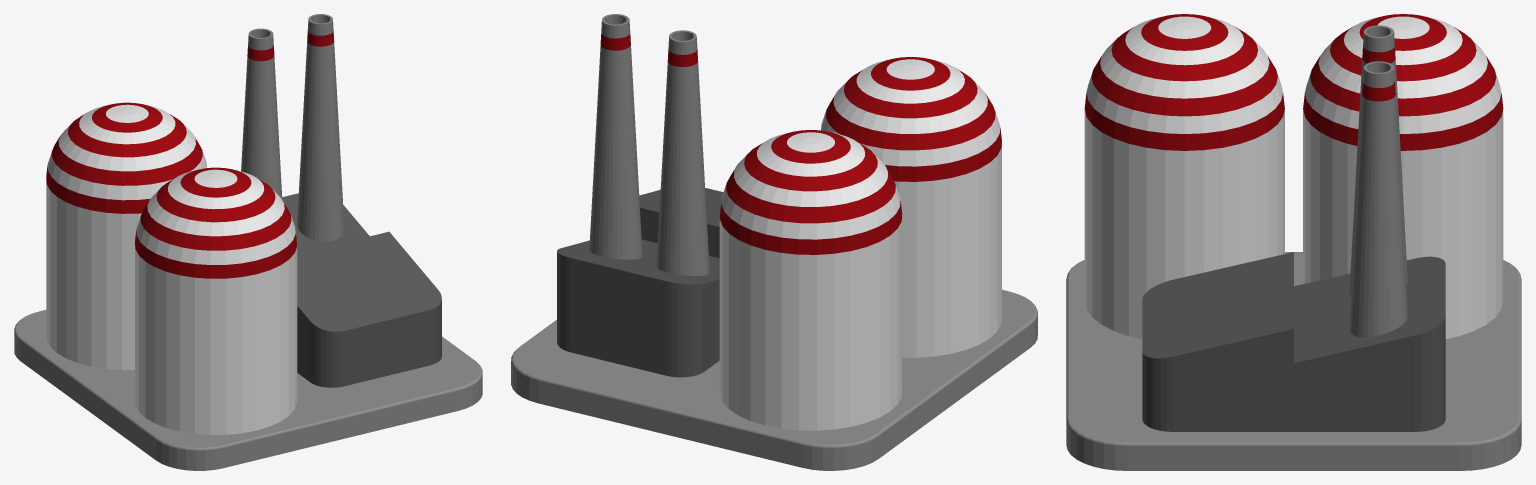
File: structure_biofuel_reactor.fbx
The picture shows the model from 3 angles, left to right: view 1: azimuth 30°, elevation 25°; view 2: azimuth 150°, elevation 25°; view 3: azimuth 270°, elevation 25°; orthographic projection. The views are drawn at different scales.
Parts seen in each view (by area): view 1: BiofuelReactor; view 2: BiofuelReactor; view 3: BiofuelReactor.
Part boxes in pixels (x1=…): BiofuelReactor: x1=14, y1=14, x2=482, y2=470; BiofuelReactor: x1=511, y1=14, x2=1037, y2=470; BiofuelReactor: x1=1066, y1=14, x2=1521, y2=470.
Size of the model in its own units: 0.75 by 0.75 by 0.675.
